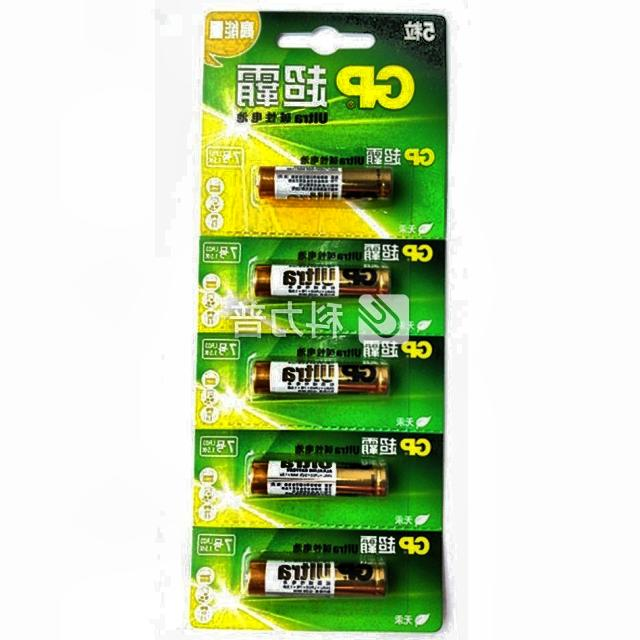Non-Valuable Waste - Batteries: (248, 559, 387, 596), (251, 462, 388, 496), (259, 166, 393, 199), (253, 265, 391, 297), (253, 362, 389, 394)
